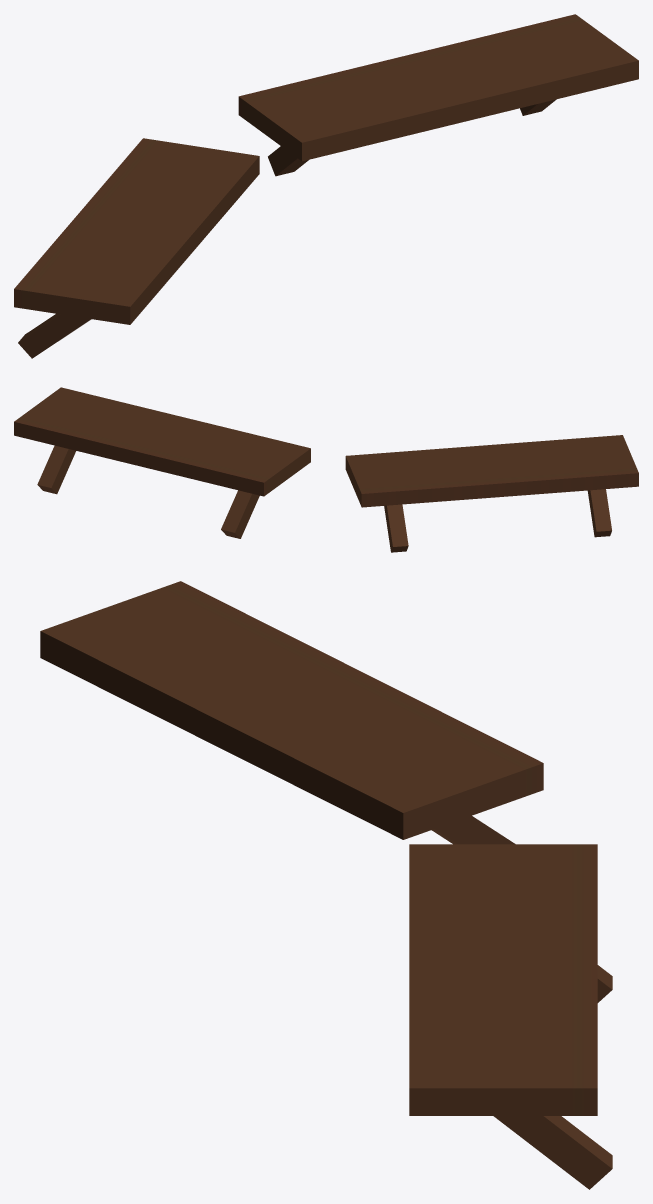
Rendered from shelf.fbx.
3 renders of one model, top to bottom at view 1: azimuth 30°, elevation 25°; view 2: azimuth 150°, elevation 25°; view 3: azimuth 270°, elevation 25°, orthographic. The views are drawn at different scales.
Parts seen in each view (by area): view 1: shelf; view 2: shelf; view 3: shelf.
Part boxes in pixels (x1,y1,x2,y2): shelf: [14, 14, 638, 358]; shelf: [14, 387, 638, 552]; shelf: [40, 581, 612, 1189].
Size of the model in its own units: 317 by 37.3 by 151.
